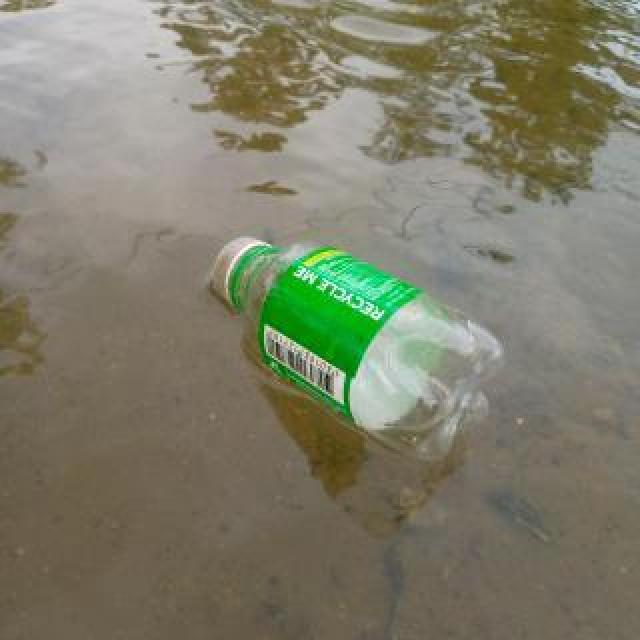bottle: (206, 235, 508, 461)
